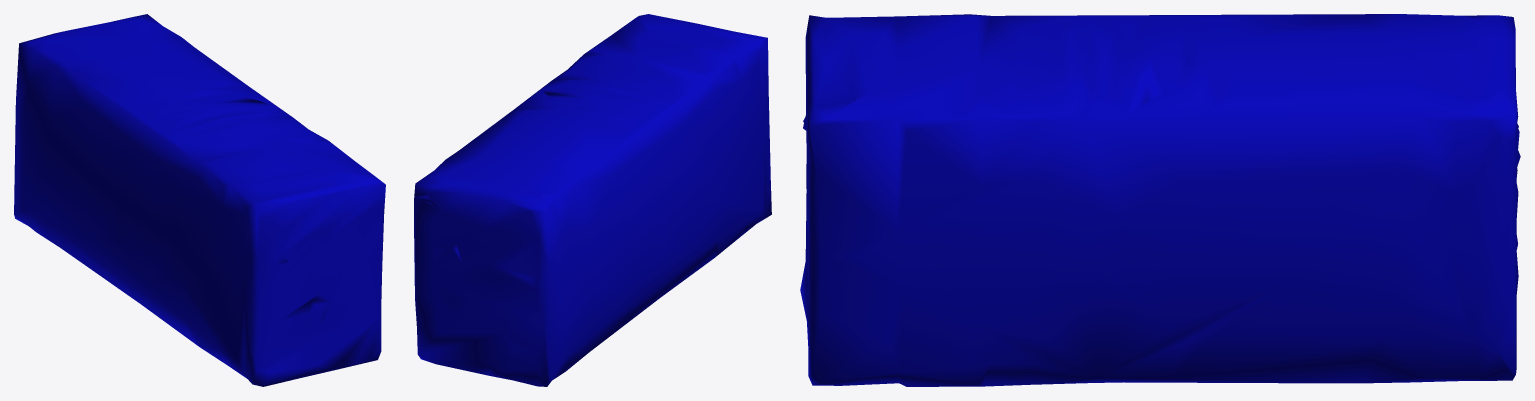
The model's file is rectangularCube1_2.dae.
The picture shows the model from 3 angles, left to right: view 1: azimuth 30°, elevation 25°; view 2: azimuth 150°, elevation 25°; view 3: azimuth 270°, elevation 25°; orthographic projection. The views are drawn at different scales.
Visible parts, largest first — view 1: BlueSaltCube_800_tex; view 2: BlueSaltCube_800_tex; view 3: BlueSaltCube_800_tex.
Part boxes in pixels (left/top/right/bottom): BlueSaltCube_800_tex: left=14, top=14, right=385, bottom=386; BlueSaltCube_800_tex: left=414, top=14, right=771, bottom=386; BlueSaltCube_800_tex: left=800, top=14, right=1520, bottom=386.
Bounding box in the file's own units: 0.0366 × 0.0986 × 0.045.
